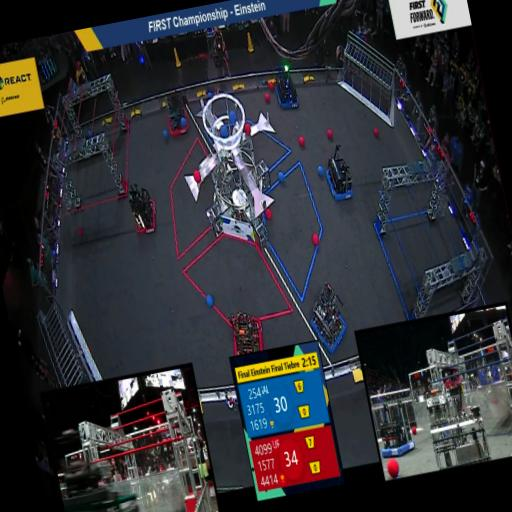robot: (420, 382, 494, 472), (52, 448, 144, 512), (302, 277, 356, 356), (374, 396, 420, 461), (222, 305, 270, 362), (122, 178, 164, 240), (322, 151, 358, 202), (272, 64, 305, 116), (162, 96, 194, 140)
